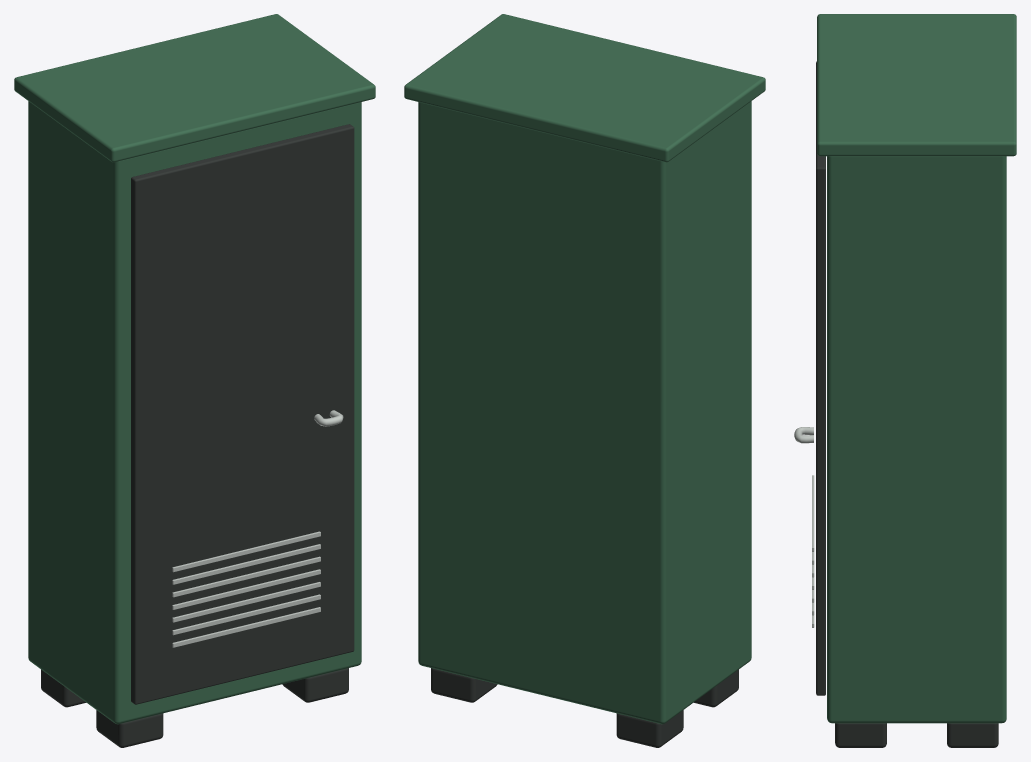
Rendered from sawmill-and-timber-yard-workshop-tool-locker-9cb9b6e5__31203.glb.
3 renders of one model, left to right at view 1: azimuth 30°, elevation 25°; view 2: azimuth 150°, elevation 25°; view 3: azimuth 270°, elevation 25°, orthographic.
Visible parts, largest first — view 1: workshop-tool-locker; view 2: workshop-tool-locker; view 3: workshop-tool-locker.
Boxes of the visible parts, left/top/right/bottom form: workshop-tool-locker: left=14, top=14, right=375, bottom=747; workshop-tool-locker: left=404, top=14, right=765, bottom=747; workshop-tool-locker: left=794, top=14, right=1016, bottom=747.
Bounding box in the file's own units: 0.7699 × 1.7 × 0.5574.
